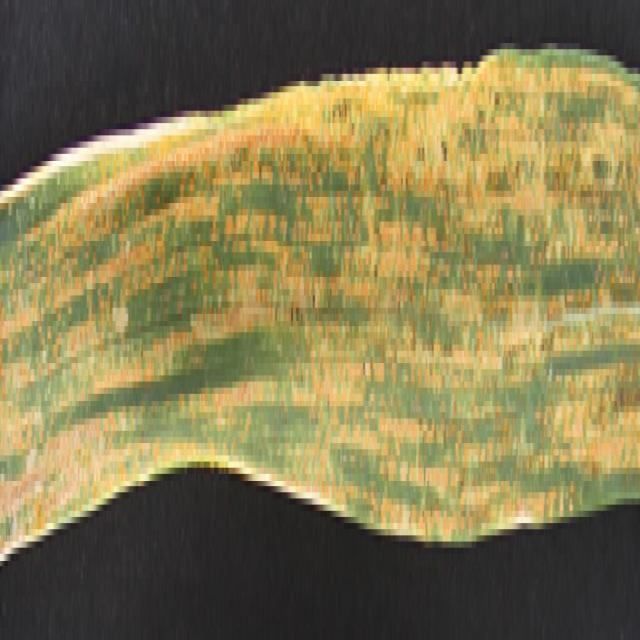leaf rust: (1, 74, 638, 523)
